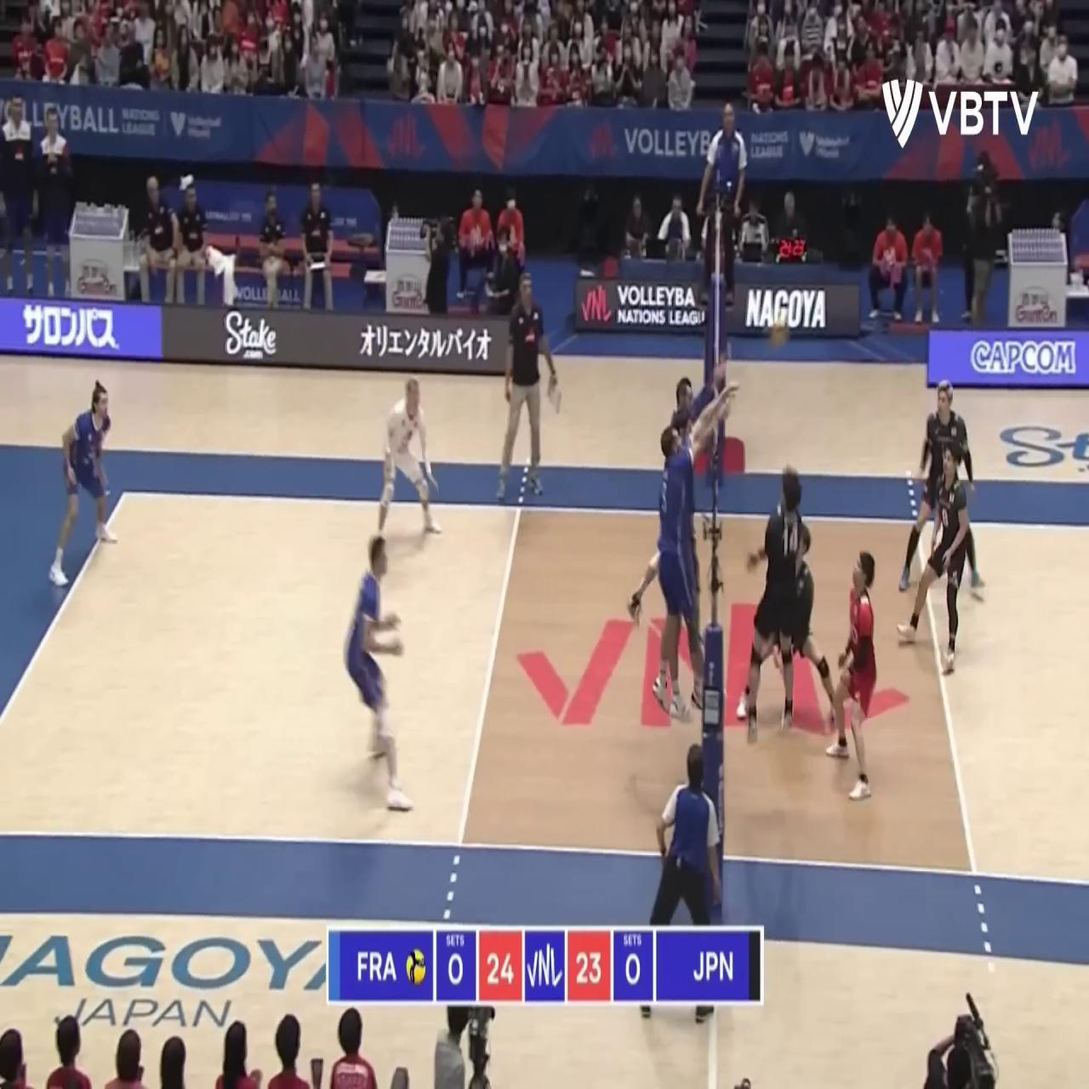ball: (768, 316, 789, 347)
